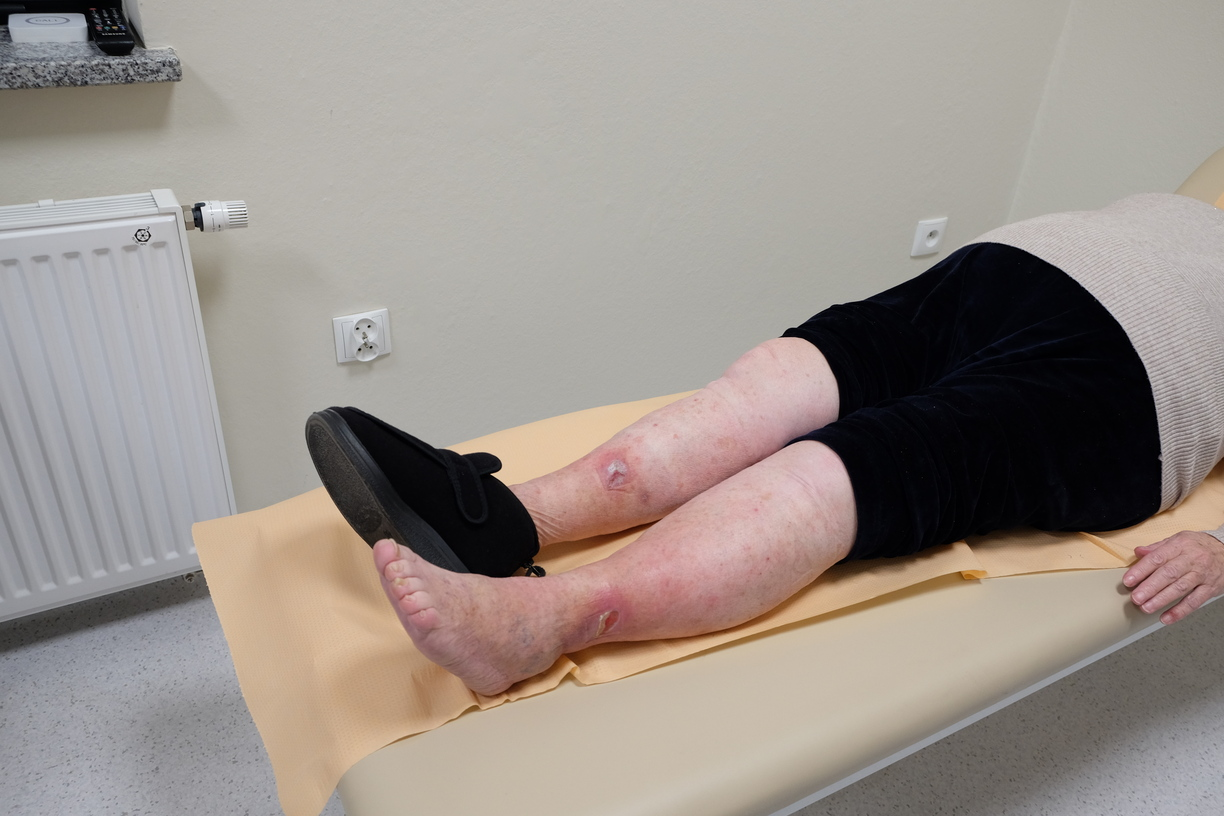wound: (590, 605, 624, 643), (604, 466, 627, 492)
